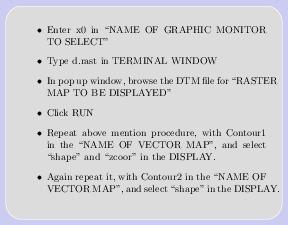paragraph: (44, 16, 284, 203)
